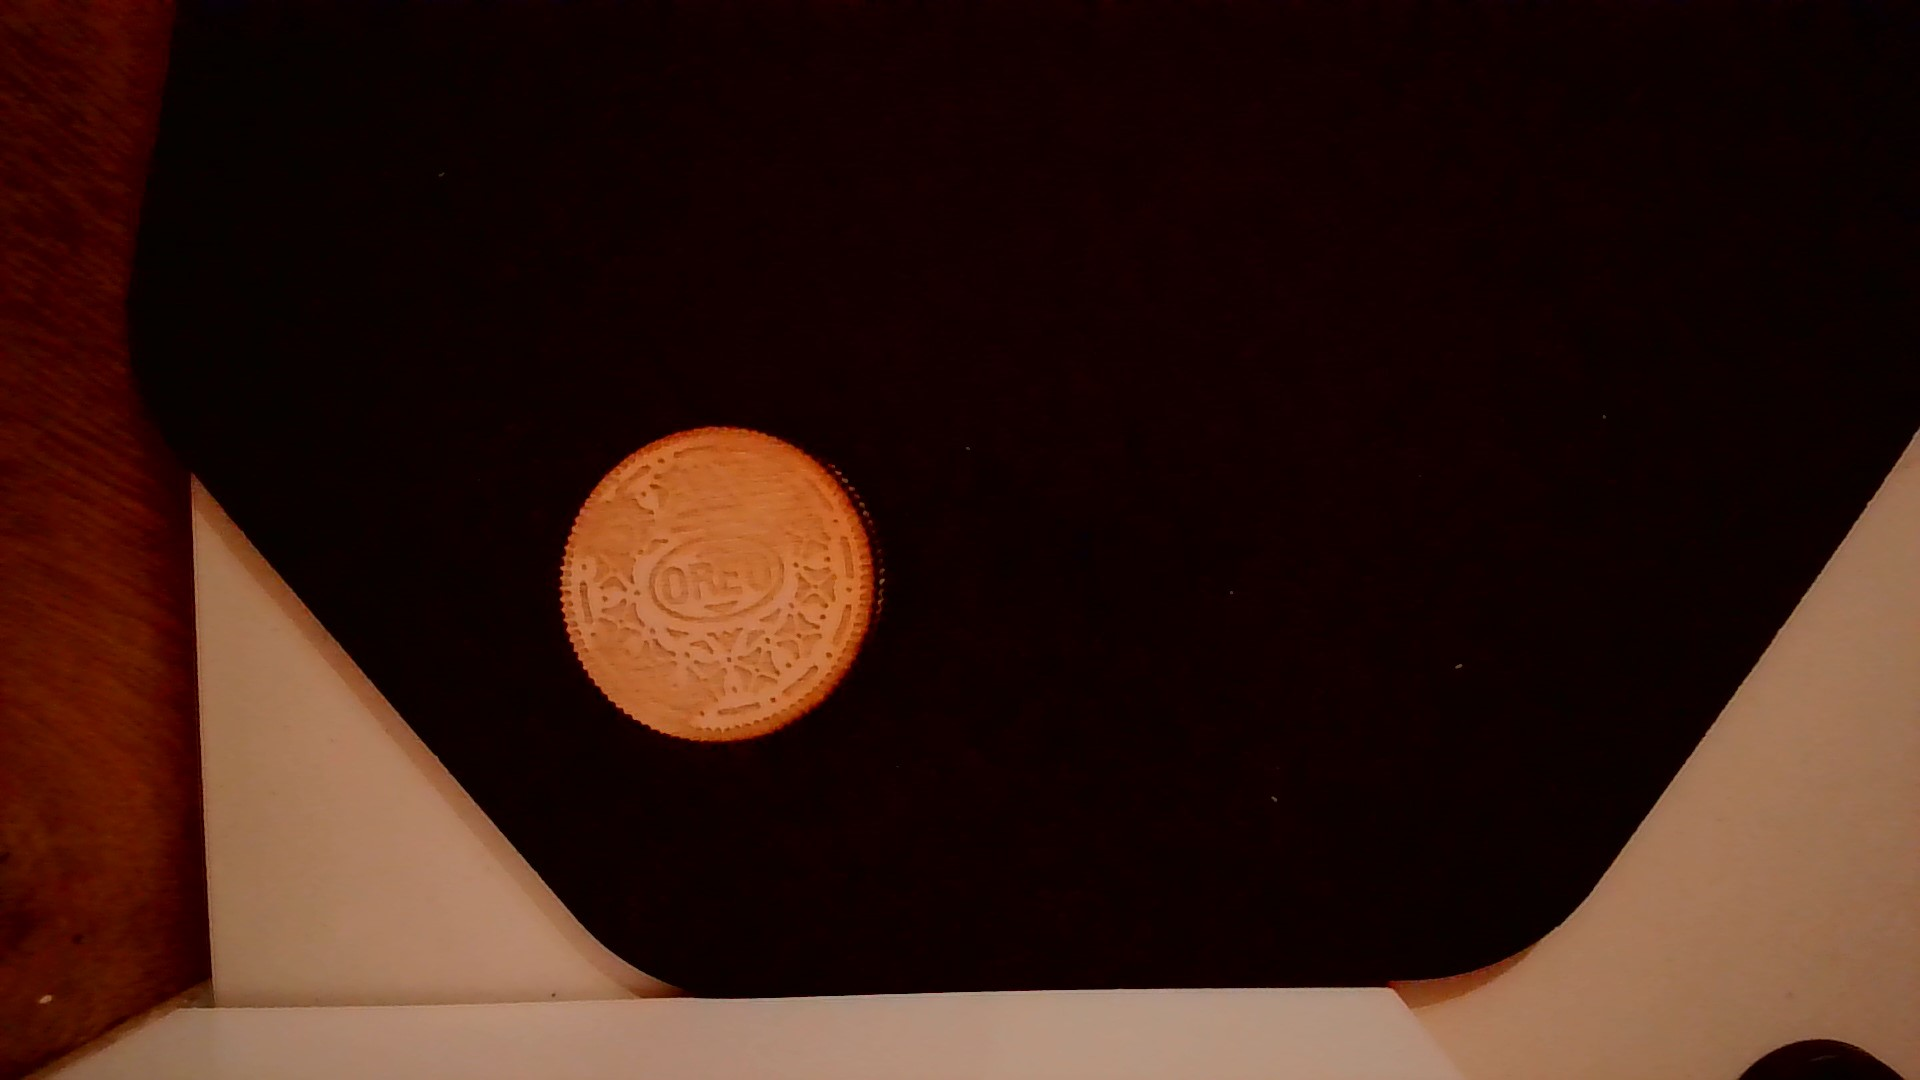Effacé: (657, 431, 839, 538), (579, 646, 708, 735), (563, 493, 647, 583)
Oréo: (551, 425, 887, 749)
